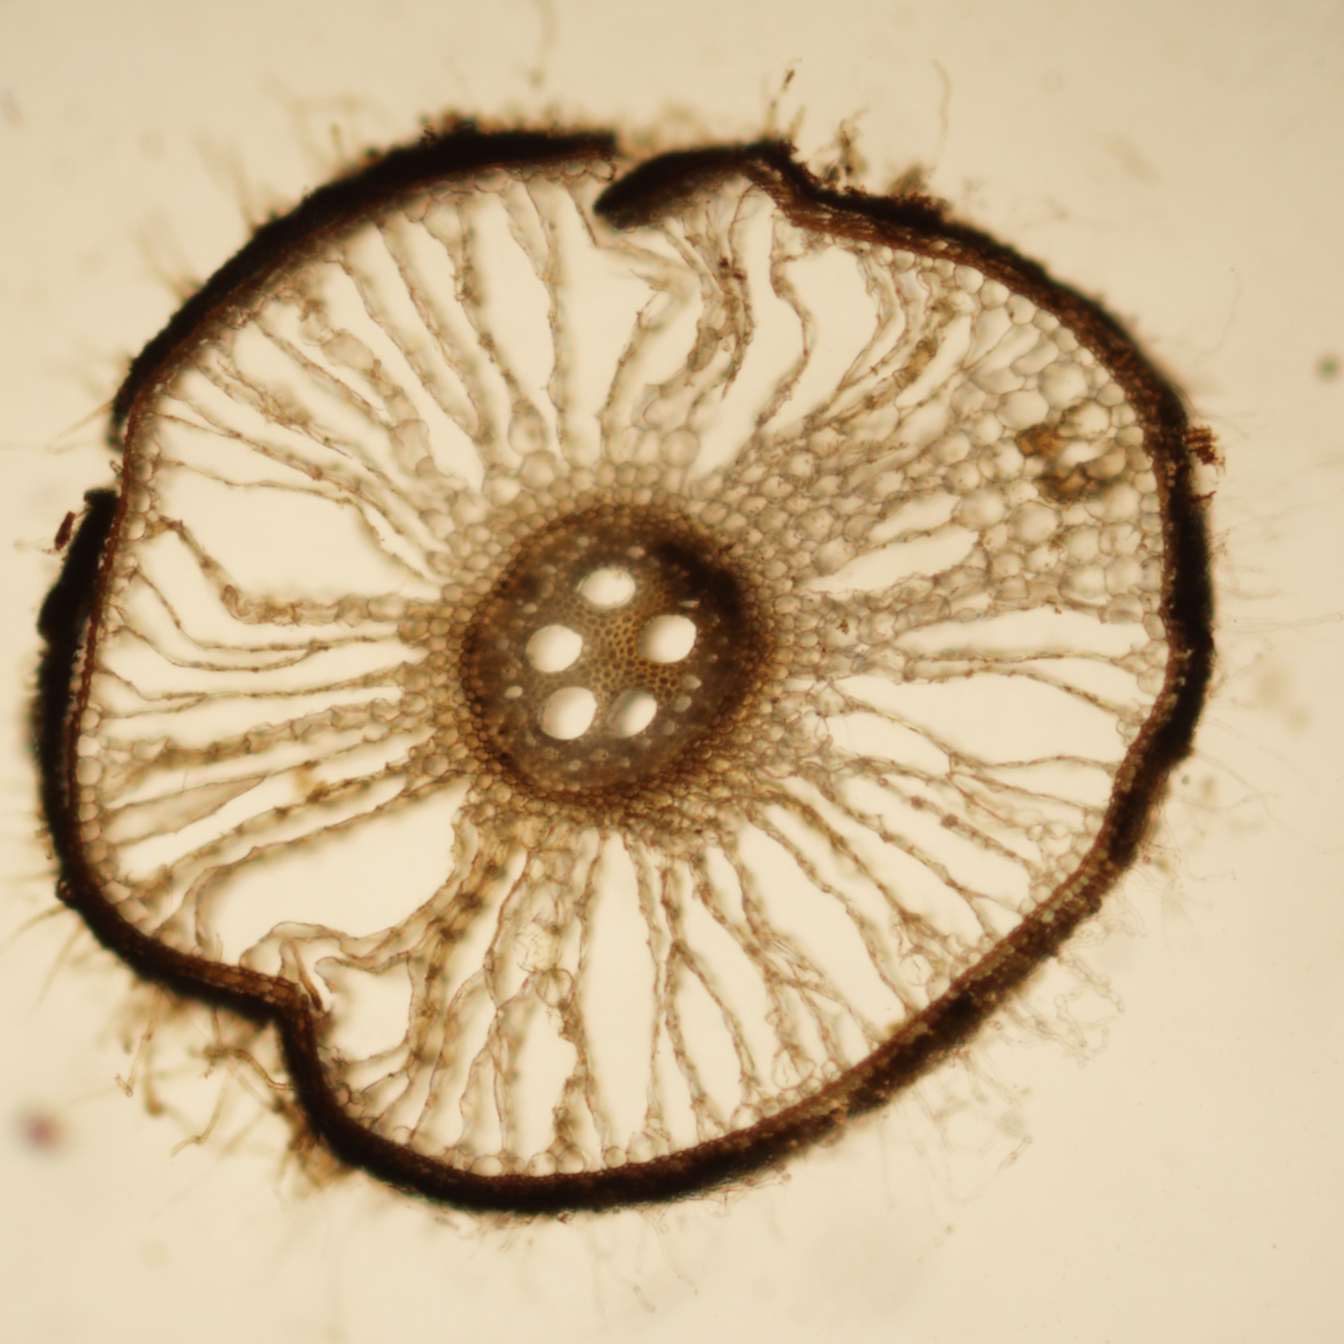lm: (537, 687, 597, 740), (638, 614, 697, 663), (524, 624, 582, 673), (606, 689, 657, 738), (577, 569, 636, 608)
